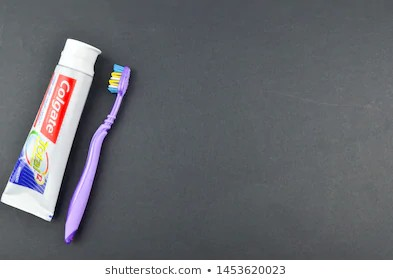colgate-total-150gm: (1, 36, 104, 212)
toothbrush: (91, 65, 136, 162)
